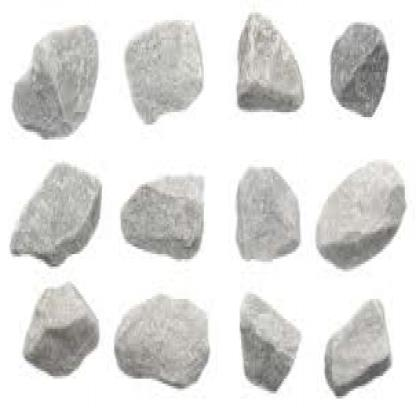Metamorphic_Marble: (312, 152, 414, 274), (110, 292, 222, 401), (10, 154, 110, 276), (10, 12, 106, 137), (120, 15, 212, 134), (230, 3, 315, 120), (113, 164, 208, 262), (18, 277, 102, 386), (321, 297, 408, 394), (224, 160, 304, 262), (233, 289, 306, 394), (329, 13, 393, 112)
